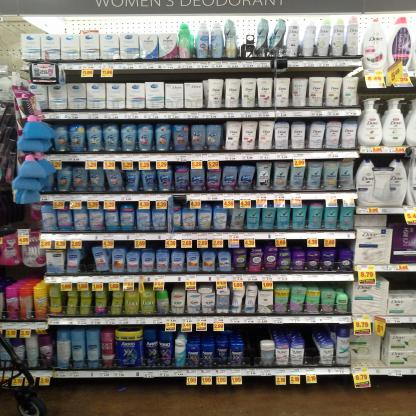Void: (244, 325, 260, 362), (304, 326, 316, 364), (387, 274, 411, 291), (82, 247, 94, 272)
